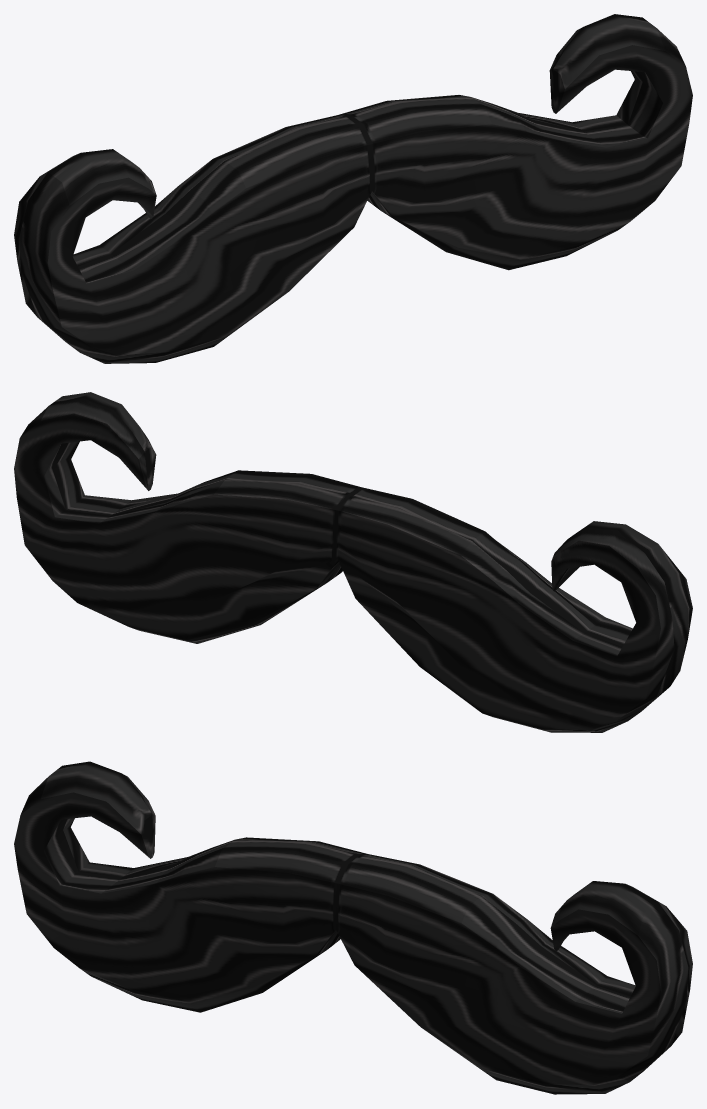
The model's file is mustache.glb.
3 renders of one model, top to bottom at view 1: azimuth 30°, elevation 25°; view 2: azimuth 150°, elevation 25°; view 3: azimuth 330°, elevation 25°, orthographic.
Parts seen in each view (by area): view 1: Mesh_0; view 2: Mesh_0; view 3: Mesh_0.
Part boxes in pixels (box(x1,y1,x2,y2)): Mesh_0: box(14, 14, 692, 363); Mesh_0: box(14, 392, 692, 732); Mesh_0: box(14, 761, 692, 1094).
Size of the model in its own units: 2.79 by 0.9025 by 0.3016.
1 material, 1 textured.
